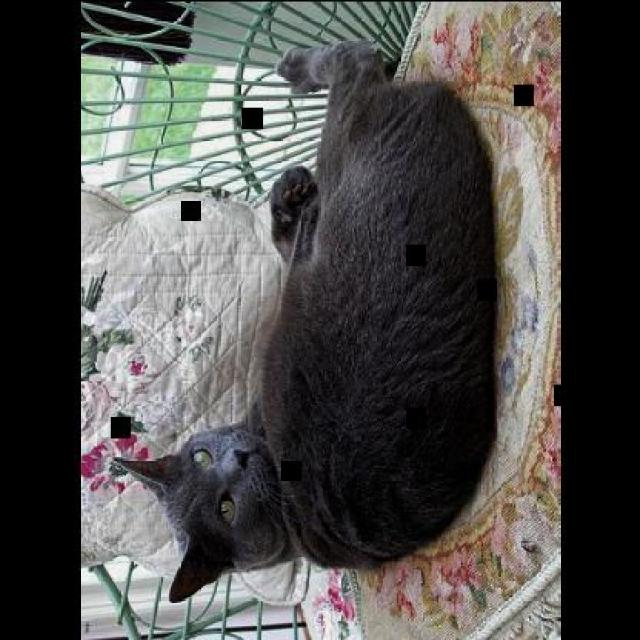unauthorized: (255, 35, 497, 568), (108, 417, 302, 603)
